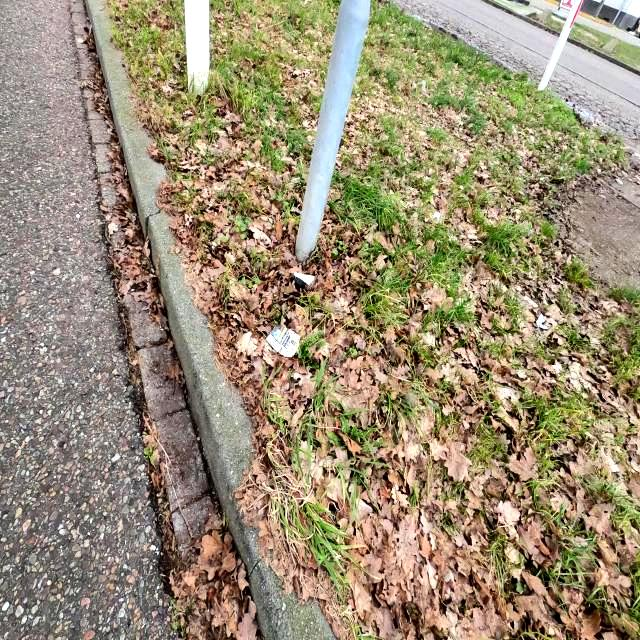Coffee Cup: (292, 271, 316, 291)
Paper: (264, 324, 302, 358)
